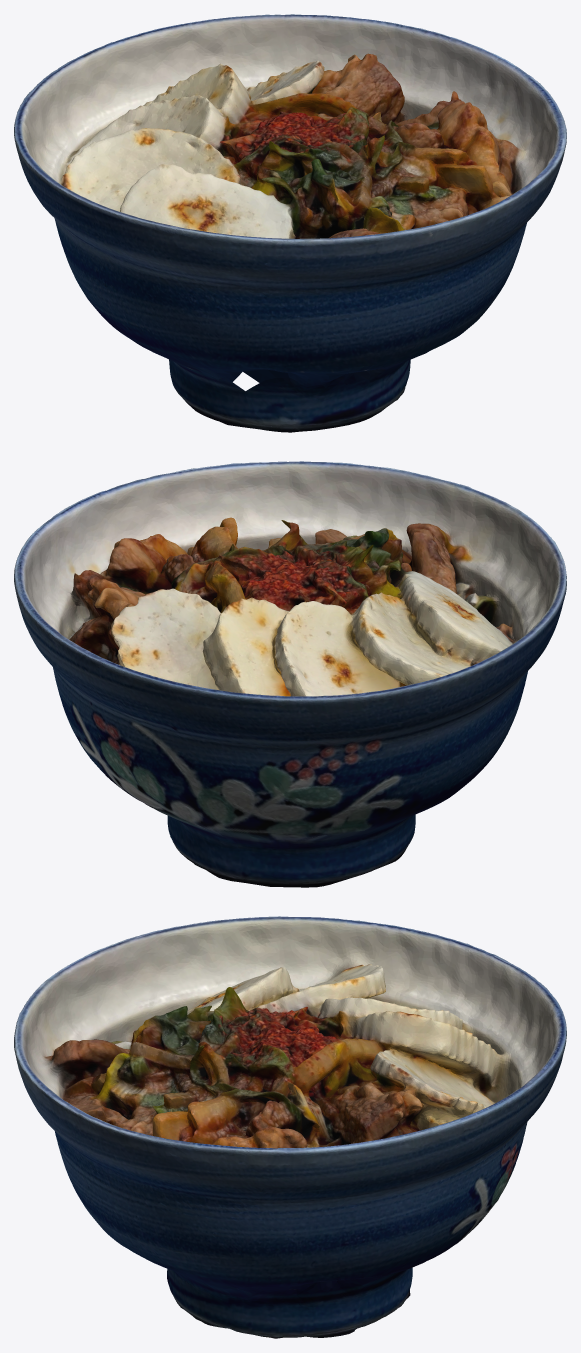
Rendered from Yakinikudonn.glb.
The picture shows the model from 3 angles, top to bottom: view 1: azimuth 30°, elevation 25°; view 2: azimuth 150°, elevation 25°; view 3: azimuth 270°, elevation 25°; orthographic projection. The views are drawn at different scales.
Bounding box in the file's own units: 0.6105 × 0.3445 × 0.6098.
Materials: 1 (1 with a texture image).
